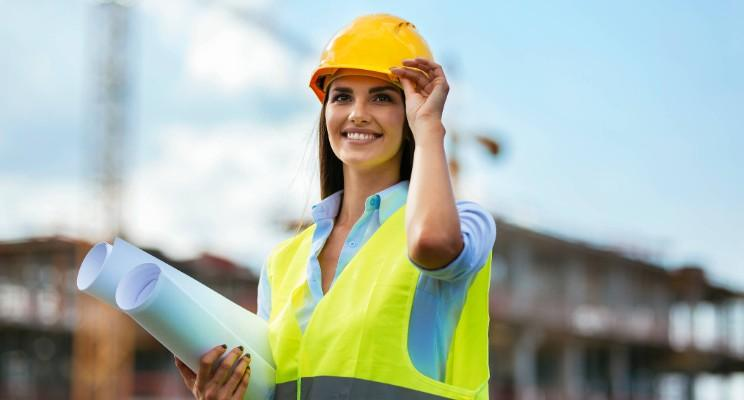hat: (294, 3, 457, 132)
vest: (236, 183, 508, 400)
